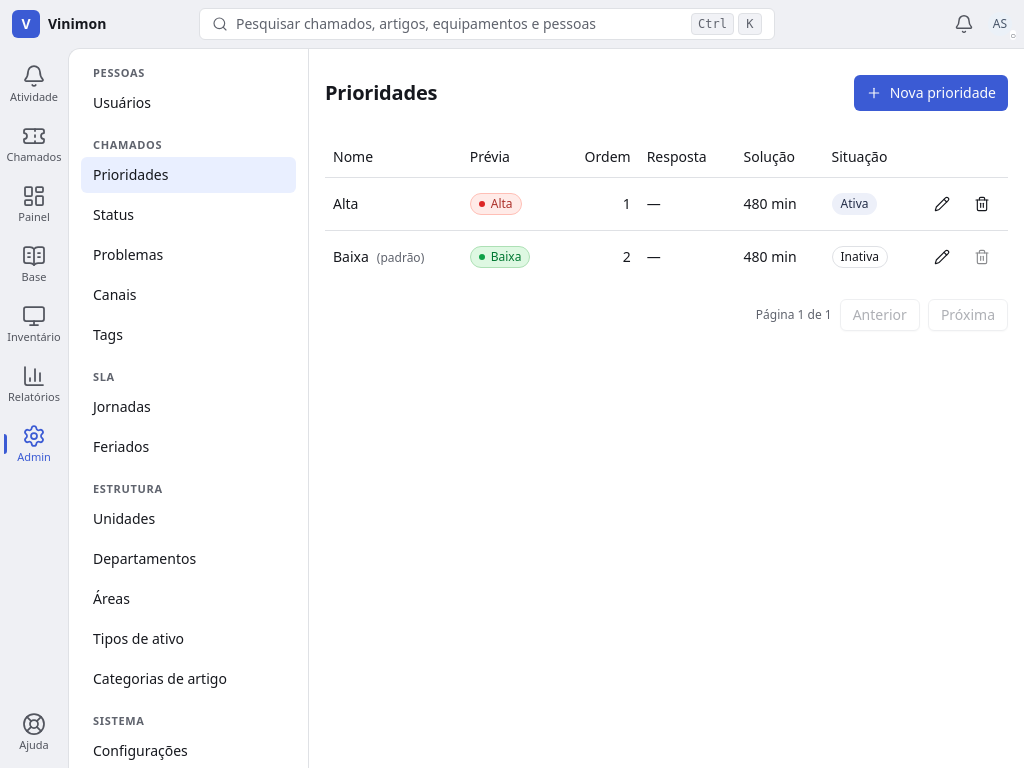
Scenario: /admin/prioridades › 409 ao excluir mostra a mensagem do servidor
Click the button named "Excluir Alta": (982, 204) 964,186 -> 1000,222
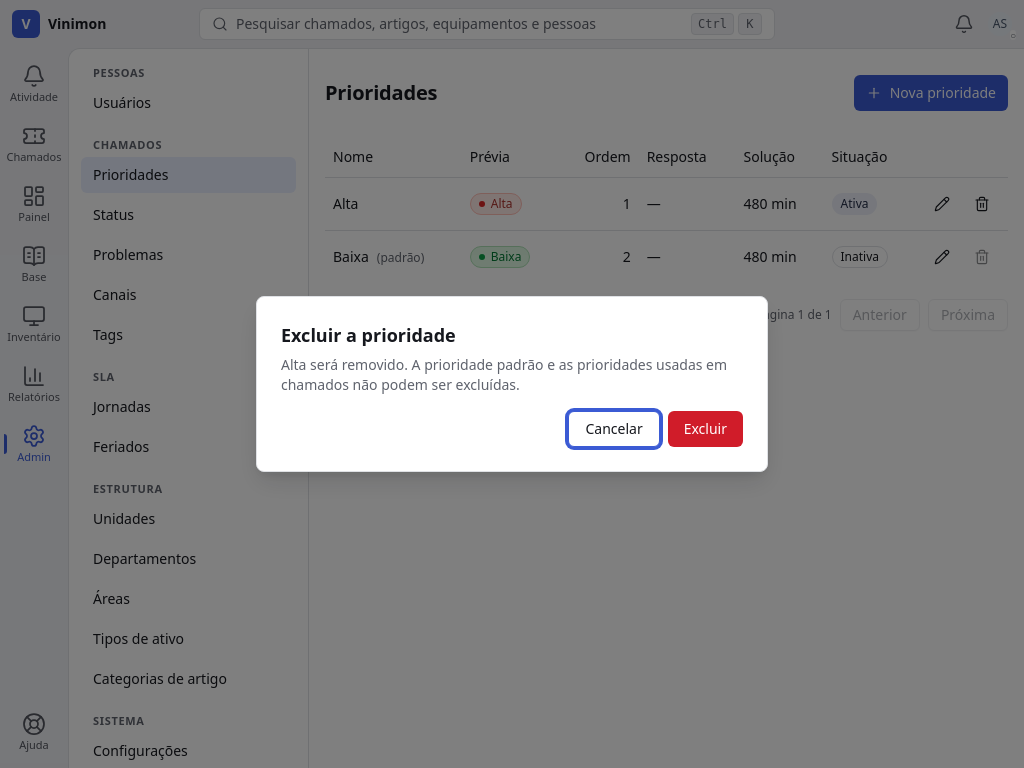
Click the button "Excluir": (705, 429) 668,411 -> 743,447
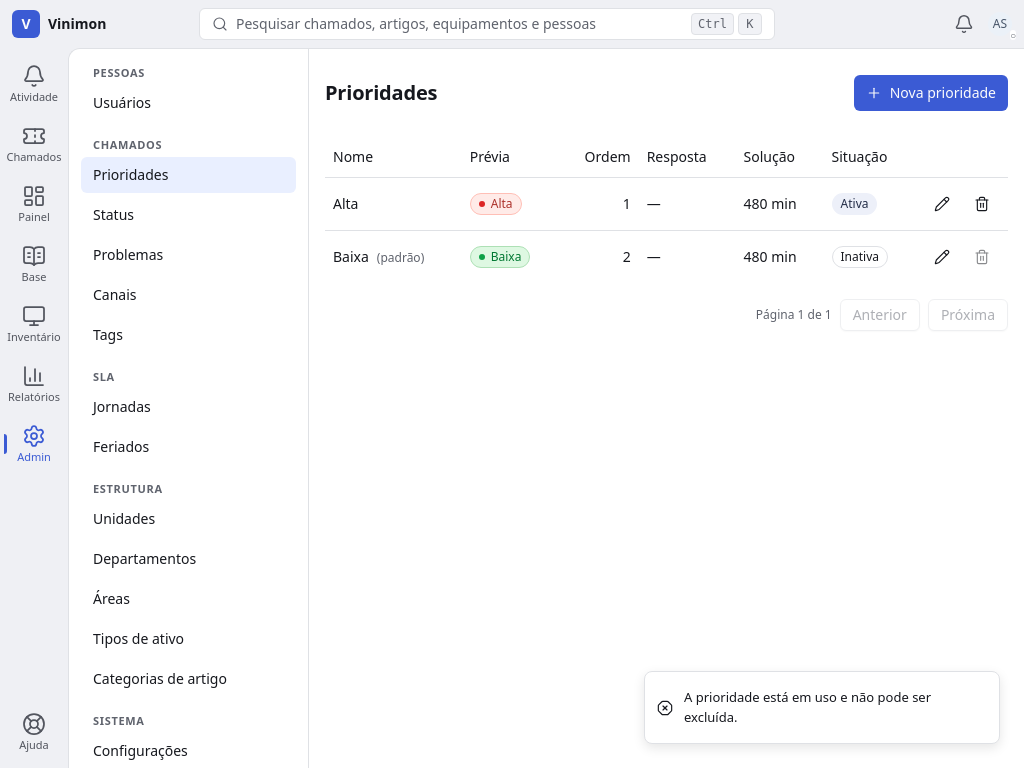
Now the text "A prioridade está em uso e não pode ser excluída." is shown, box 684,688 -> 931,726
